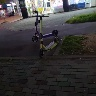beam: (29, 9, 60, 42)
gcooter: (31, 15, 62, 59)
